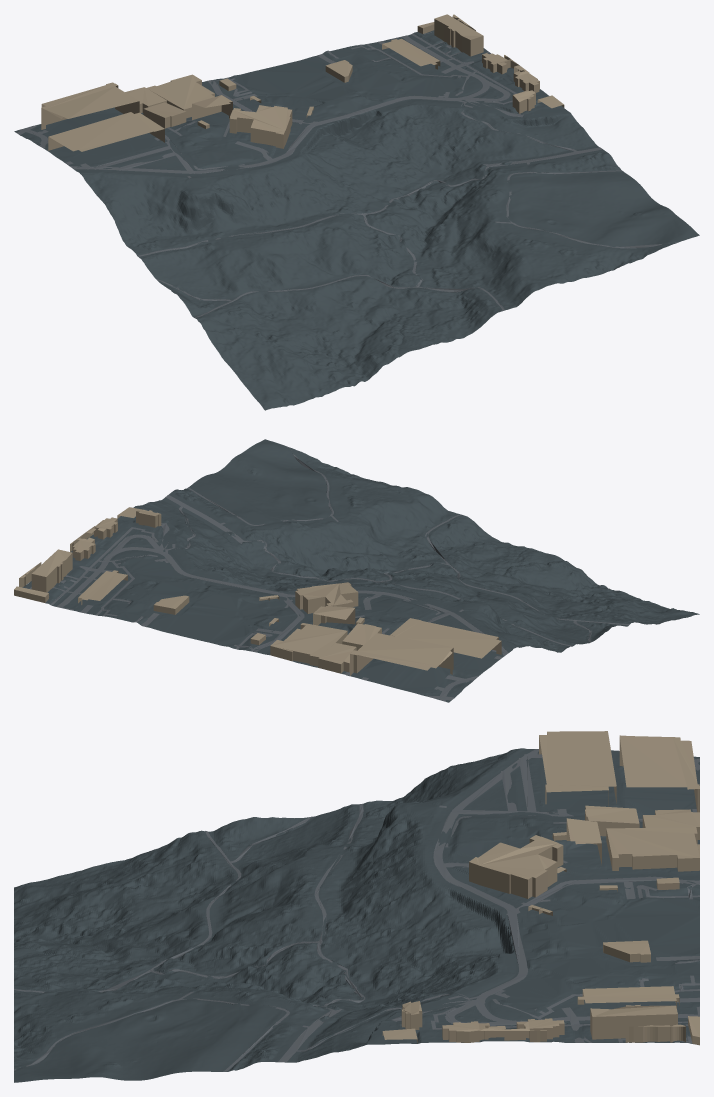
Rendered from epsg26910-1415-10890.lod0.glb.
3 views of the same model, one above another, from view 1: azimuth 30°, elevation 25°; view 2: azimuth 150°, elevation 25°; view 3: azimuth 270°, elevation 25° (orthographic). The views are drawn at different scales.
Visible parts, largest first — view 1: epsg26910-1415-10890-lod0; view 2: epsg26910-1415-10890-lod0; view 3: epsg26910-1415-10890-lod0.
Boxes of the visible parts, left/top/right/bottom form: epsg26910-1415-10890-lod0: left=14, top=14, right=699, bottom=410; epsg26910-1415-10890-lod0: left=14, top=439, right=699, bottom=702; epsg26910-1415-10890-lod0: left=14, top=731, right=699, bottom=1082.
Size of the model in its own units: 384 by 106 by 384.
